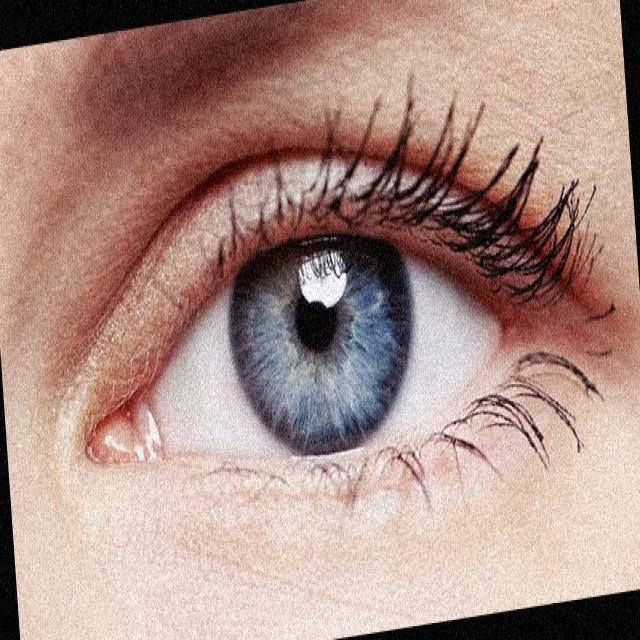Healthy-Eye: (66, 164, 602, 500)
